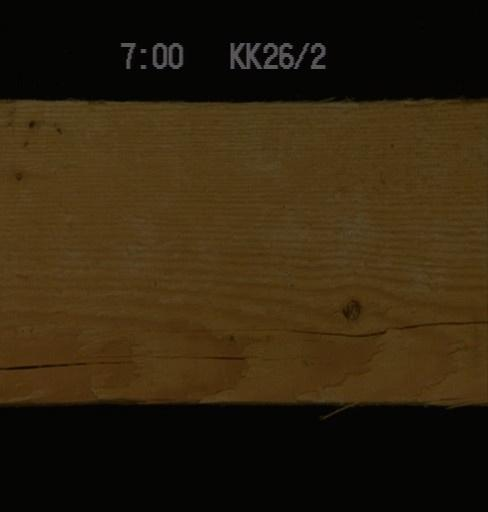small_knot: (11, 168, 23, 184)
sound_knot: (338, 295, 361, 321)
split: (0, 346, 327, 379), (122, 321, 486, 340)
